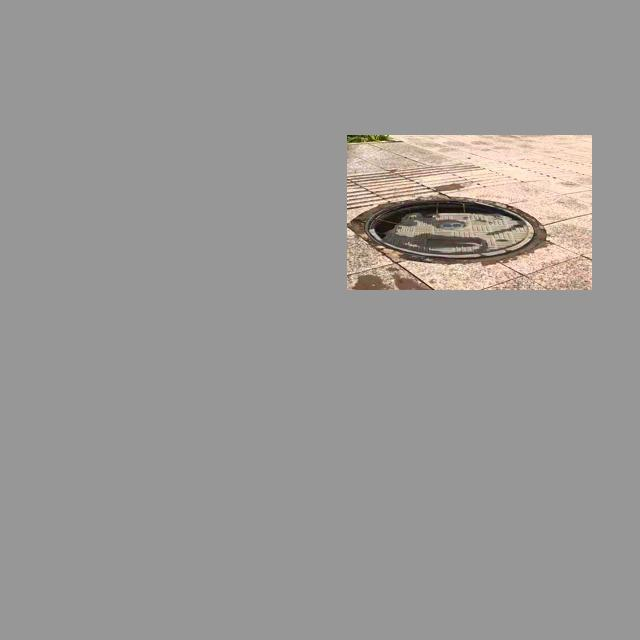broke: (363, 198, 536, 259)
